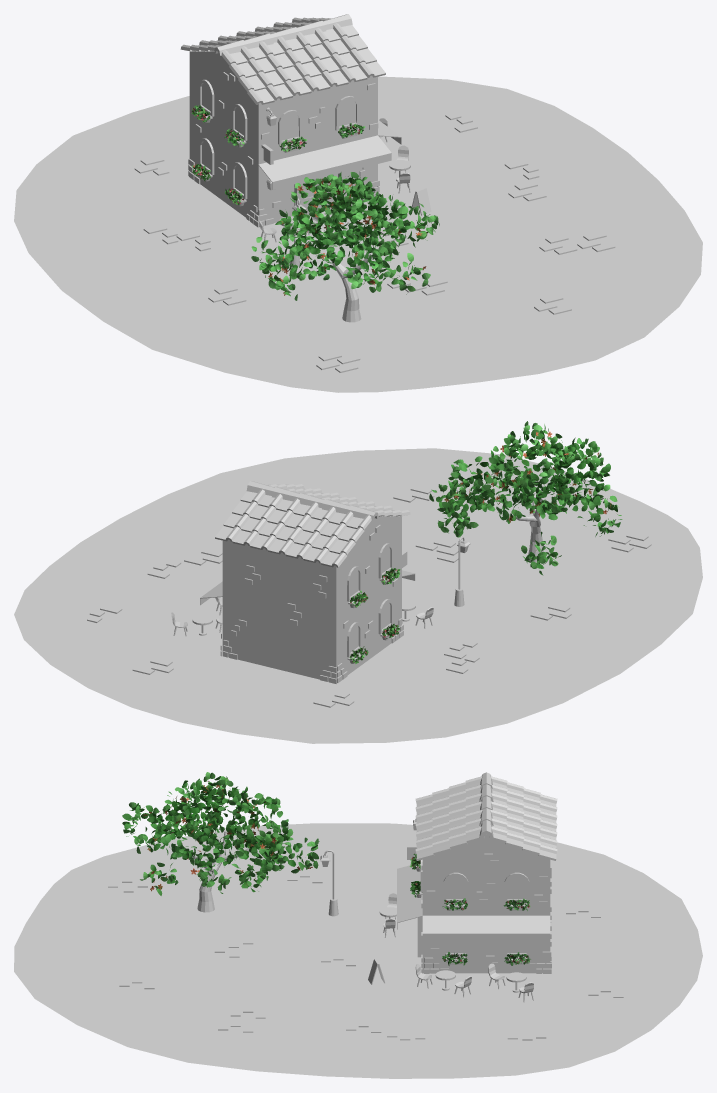
File: Cafe.glb
3 renders of one model, top to bottom at view 1: azimuth 30°, elevation 25°; view 2: azimuth 150°, elevation 25°; view 3: azimuth 270°, elevation 25°, orthographic. The views are drawn at different scales.
Visible parts, largest first — view 1: baked, Foliage_Tree_Leaf, Foliage_Planter_Leaf, Foliage_Tree_Flower; view 2: baked, Foliage_Tree_Leaf, Foliage_Planter_Leaf; view 3: baked, Foliage_Tree_Leaf, Foliage_Planter_Leaf, Foliage_Tree_Flower.
Part boxes in pixels (x1,y1,x2,y2): baked: (14,14,702,392); Foliage_Tree_Leaf: (251,172,439,300); Foliage_Planter_Leaf: (191,105,365,204); Foliage_Tree_Flower: (268,178,426,295); baked: (14,448,702,743); Foliage_Tree_Leaf: (429,421,622,575); Foliage_Planter_Leaf: (349,568,400,663); baked: (14,772,702,1078); Foliage_Tree_Leaf: (122,772,319,895); Foliage_Planter_Leaf: (409,853,530,965); Foliage_Tree_Flower: (143,781,312,891).
Bounding box in the file's own units: 23.74 × 6.29 × 27.04.
